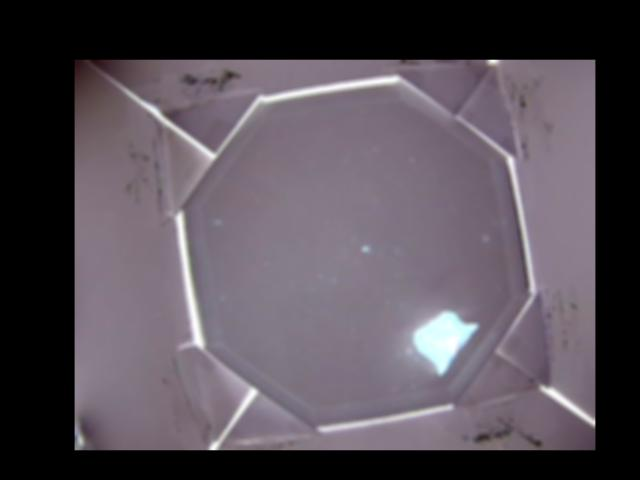Brisk: (414, 310, 477, 376)
